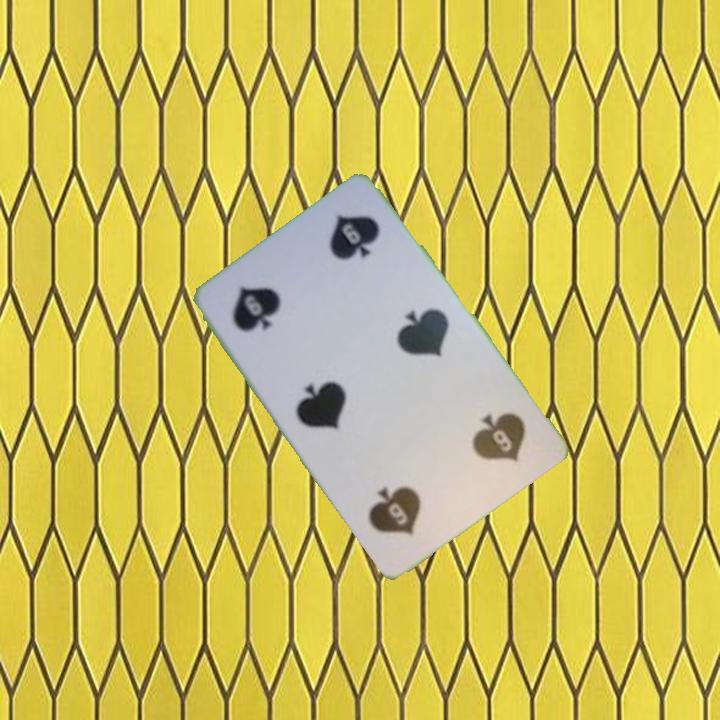s_6.png: (206, 244, 336, 370), (421, 380, 550, 506)
